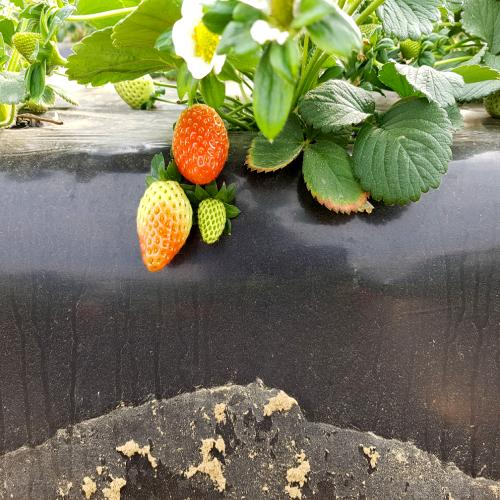partially-ripe: (135, 174, 194, 277)
ripe: (170, 97, 234, 184)
